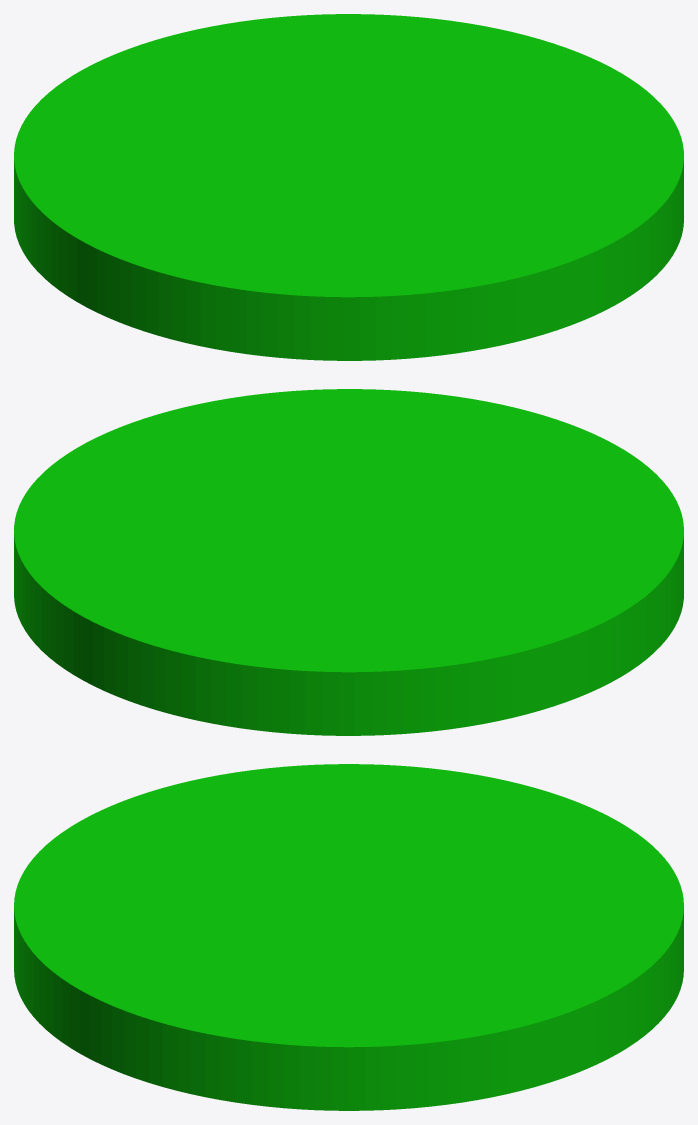
The model's file is PuckCollider.fbx.
3 renders of one model, top to bottom at view 1: azimuth 30°, elevation 25°; view 2: azimuth 150°, elevation 25°; view 3: azimuth 270°, elevation 25°, orthographic.
Parts seen in each view (by area): view 1: PuckCollider; view 2: PuckCollider; view 3: PuckCollider.
Part boxes in pixels (x1,y1,x2,y2): PuckCollider: [14, 14, 683, 360]; PuckCollider: [14, 389, 683, 735]; PuckCollider: [14, 764, 683, 1110].
Size of the model in its own units: 631 by 66.22 by 631.
